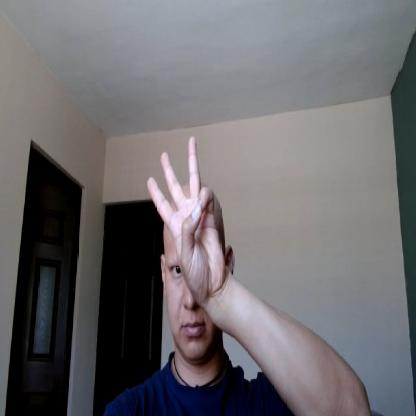W: (145, 131, 225, 301)
